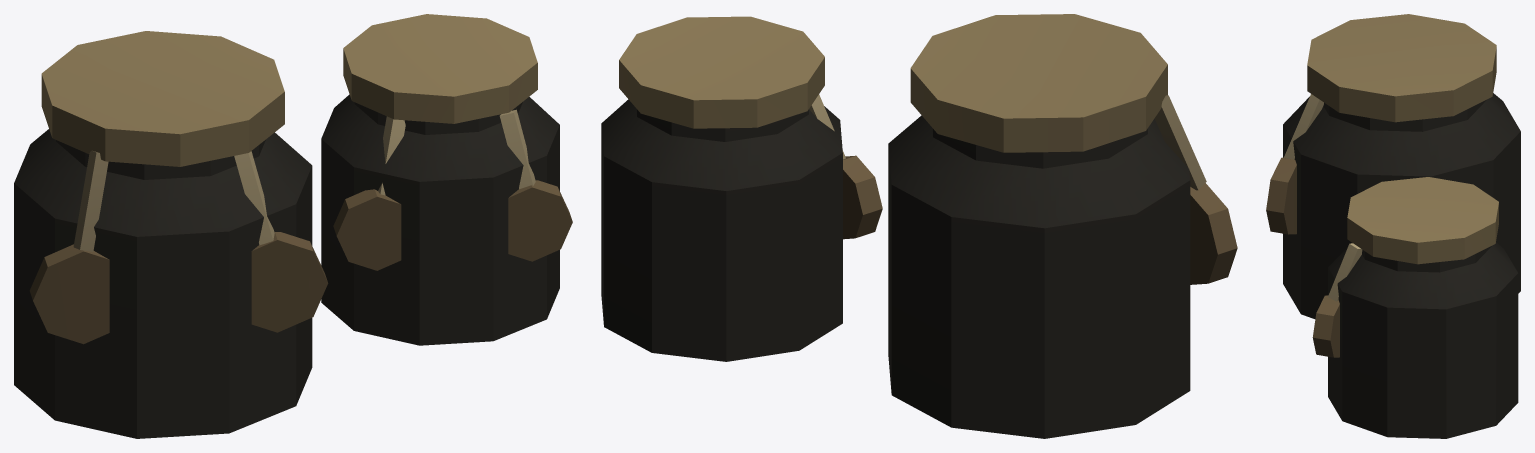
The model's file is ph_item_prep_jar_small.glb.
3 renders of one model, left to right at view 1: azimuth 30°, elevation 25°; view 2: azimuth 150°, elevation 25°; view 3: azimuth 270°, elevation 25°, orthographic. The views are drawn at different scales.
Visible parts, largest first — view 1: ph_item_prep_jar_small; view 2: ph_item_prep_jar_small; view 3: ph_item_prep_jar_small.
Part boxes in pixels (box(x1,y1,x2,y2)): ph_item_prep_jar_small: box(14, 14, 572, 438); ph_item_prep_jar_small: box(601, 14, 1237, 438); ph_item_prep_jar_small: box(1266, 14, 1520, 438).
Size of the model in its own units: 0.2117 by 0.1176 by 0.1069.
